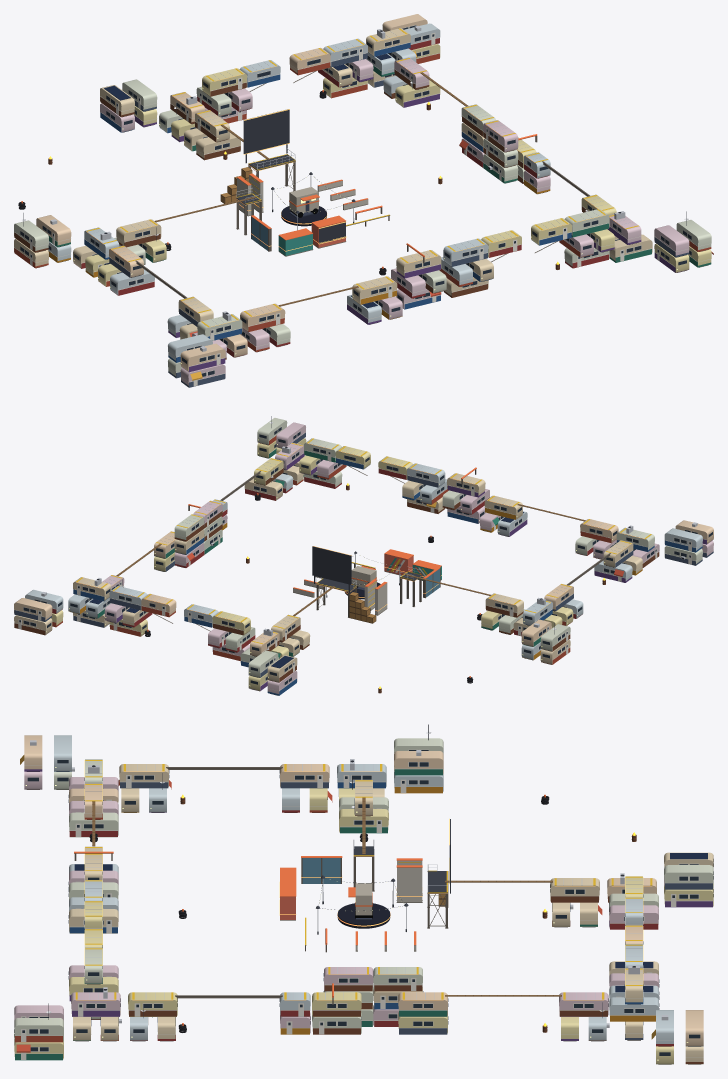
The picture shows the model from 3 angles, top to bottom: view 1: azimuth 30°, elevation 25°; view 2: azimuth 150°, elevation 25°; view 3: azimuth 270°, elevation 25°; orthographic projection. The views are drawn at different scales.
Parts seen in each view (by area): view 1: district_city_vertical.lod0; view 2: district_city_vertical.lod0; view 3: district_city_vertical.lod0.
Part boxes in pixels (box(x1,y1,x2,y2)): district_city_vertical.lod0: box(14, 14, 713, 387); district_city_vertical.lod0: box(14, 416, 713, 695); district_city_vertical.lod0: box(14, 724, 713, 1064).
Size of the model in its own units: 95.85 by 13 by 95.85.
